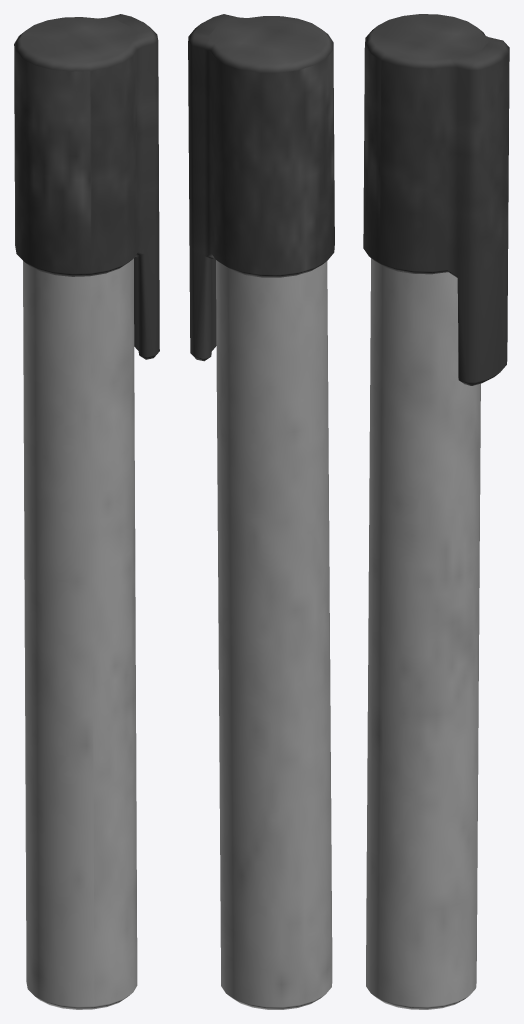
Rendered from SM_Marker_pen_2.fbx.
The picture shows the model from 3 angles, left to right: view 1: azimuth 30°, elevation 25°; view 2: azimuth 150°, elevation 25°; view 3: azimuth 330°, elevation 25°; orthographic projection.
Visible parts, largest first — view 1: SM_Marker_pen_2_LOD0; view 2: SM_Marker_pen_2_LOD0; view 3: SM_Marker_pen_2_LOD0.
Part boxes in pixels (x1,y1,x2,y2): SM_Marker_pen_2_LOD0: [14, 14, 159, 1009]; SM_Marker_pen_2_LOD0: [188, 14, 334, 1009]; SM_Marker_pen_2_LOD0: [363, 14, 509, 1009].
Bounding box in the file's own units: 1.24 × 1.08 × 8.74.
1 material, 1 textured.
